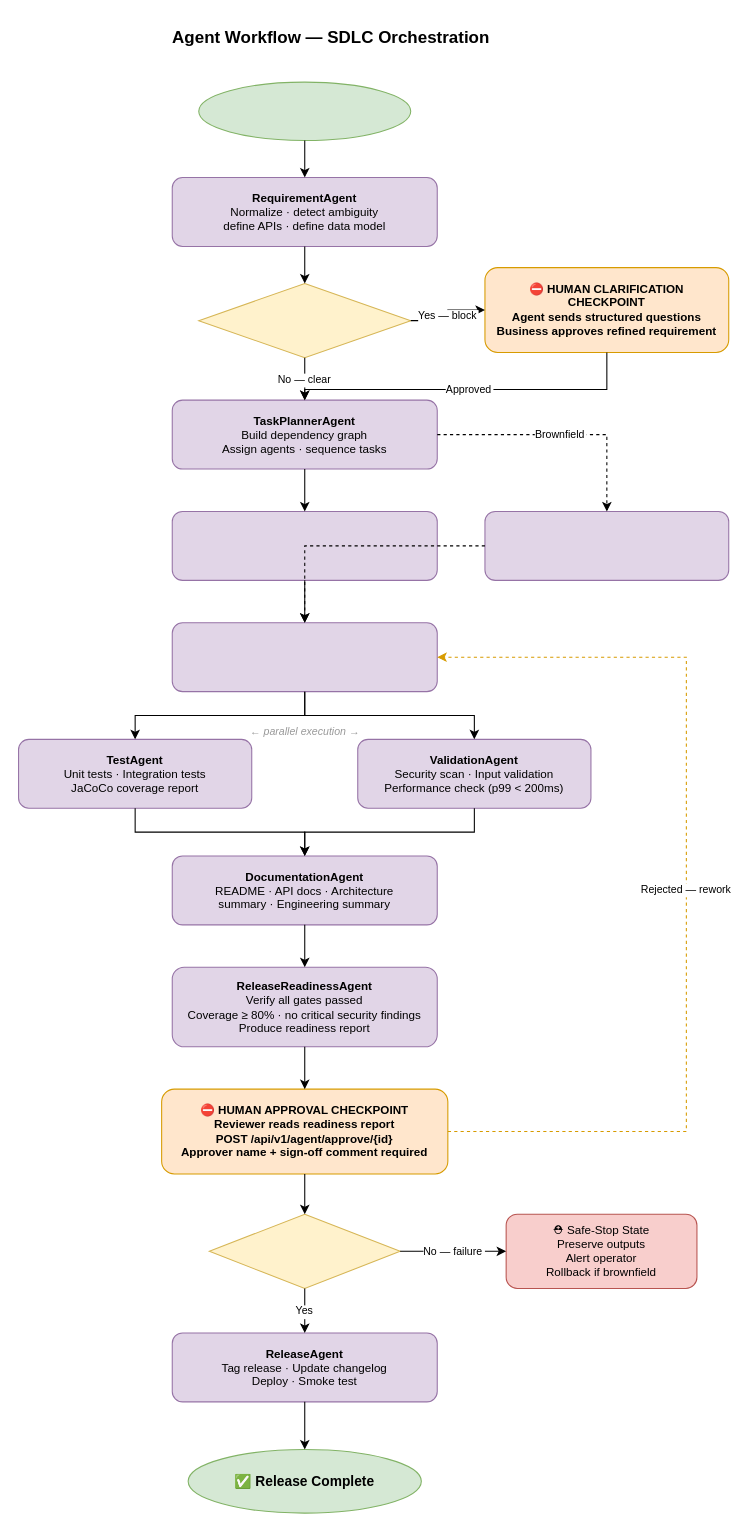
Some shapes in this 753 by 1532 pixel diagram are drawn without their labels. The centre of each missing label's shape, as x and y in pixels:
"All gates passed?" belongs at (x=304, y=1250).
"Ambiguous?" belongs at (x=304, y=320).
"CodingAgent Implement service · controller repository · cache · async wiring" belongs at (x=304, y=657).
"DesignAgent OpenAPI spec · DB schema Architecture documentation" belongs at (x=304, y=545).
"ImpactAnalysisAgent (Brownfield only) Classify risk · propose migration" belongs at (x=606, y=545).
"Requirement Input" belongs at (x=304, y=110).
